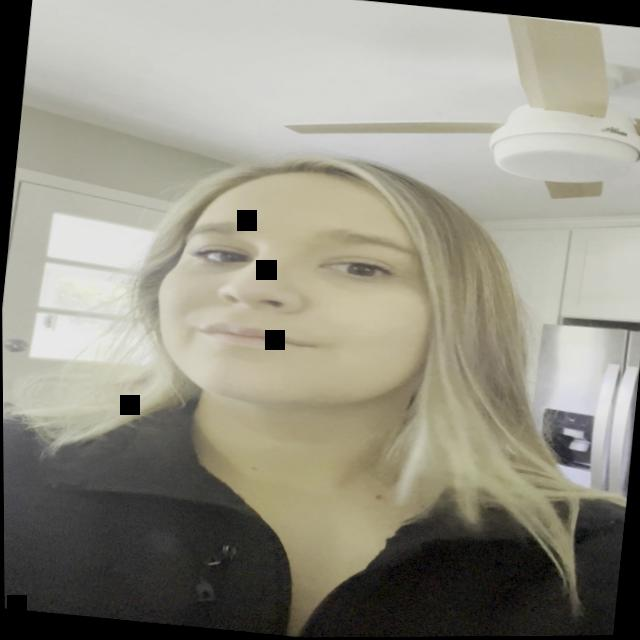NO-Mask: (147, 158, 454, 424)
